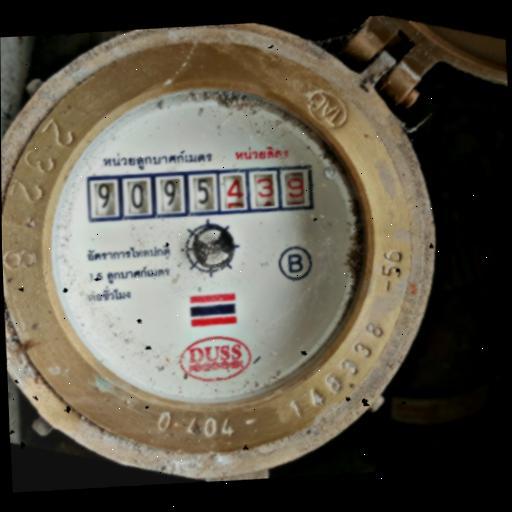0: (126, 180, 149, 214)
3: (253, 172, 274, 208)
4: (223, 175, 244, 211)
5: (194, 177, 213, 210)
9: (160, 179, 181, 212), (94, 183, 115, 215), (284, 172, 305, 204)
border_water_meter_number: (87, 163, 314, 222)
